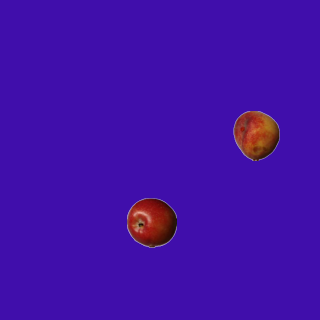Apple Braeburn: (126, 197, 176, 247)
Peach: (231, 110, 281, 160)
